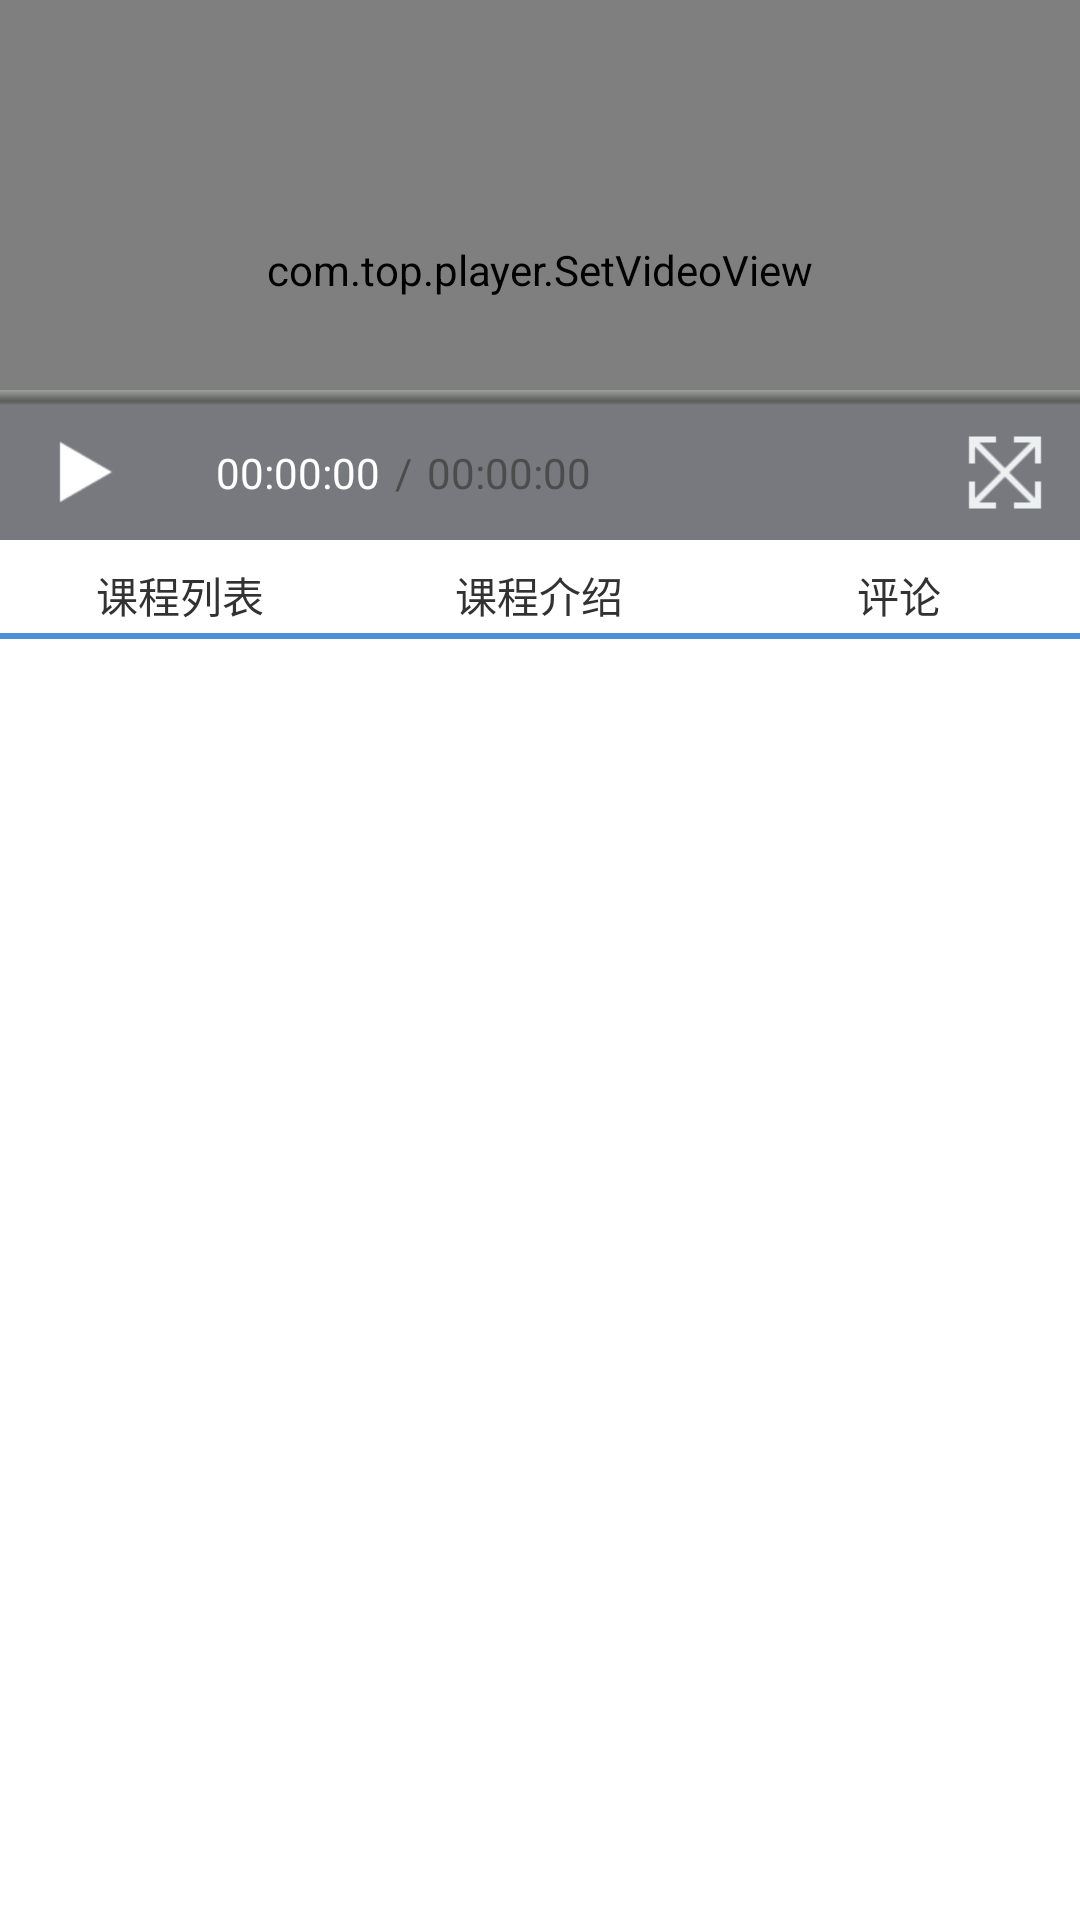

Screen size 1080 x 1920. Icon name, then its center in pixels as (x=x, y=y):
fullscreen: (x=1005, y=472)
play bt style: (x=86, y=472)
